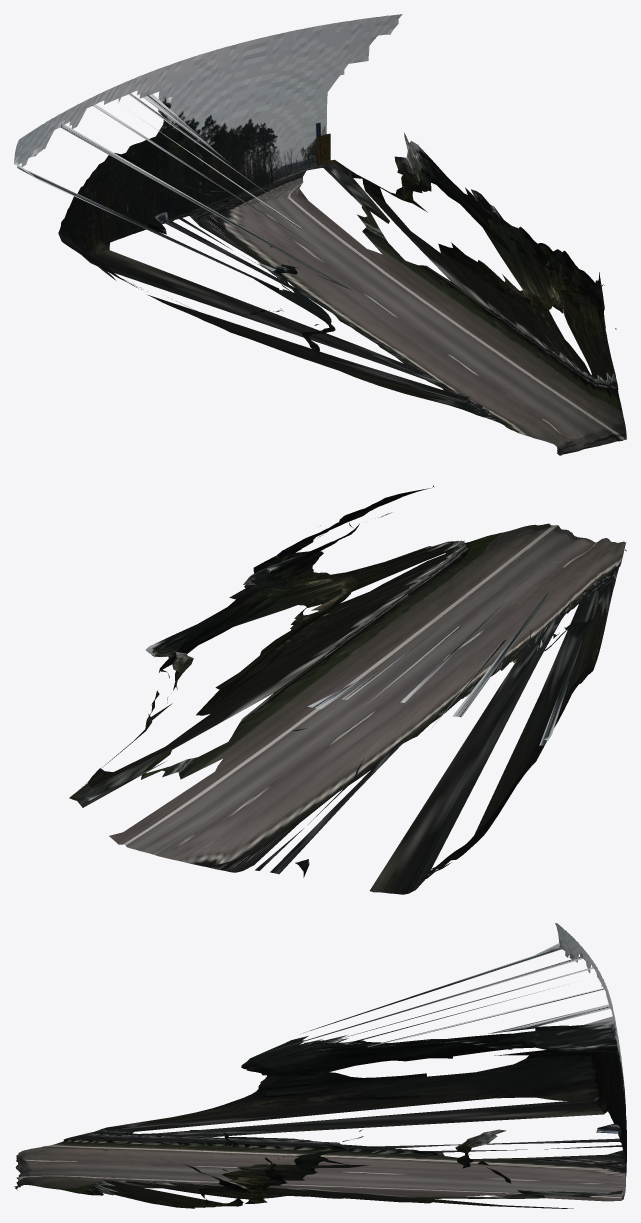
3 views of the same model, one above another, from view 1: azimuth 30°, elevation 25°; view 2: azimuth 150°, elevation 25°; view 3: azimuth 270°, elevation 25° (orthographic). The views are drawn at different scales.
Visible parts, largest first — view 1: defaultobject; view 2: defaultobject; view 3: defaultobject.
Boxes of the visible parts, left/top/right/bottom form: defaultobject: left=14, top=14, right=626, bottom=455; defaultobject: left=69, top=485, right=626, bottom=894; defaultobject: left=14, top=923, right=626, bottom=1208.
Bounding box in the file's own units: 30.63 × 12.38 × 44.36.
Materials: 1 (1 with a texture image).
